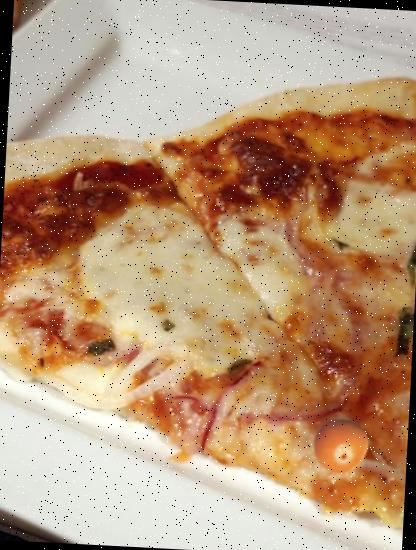Grapefruit: (311, 414, 371, 475)
